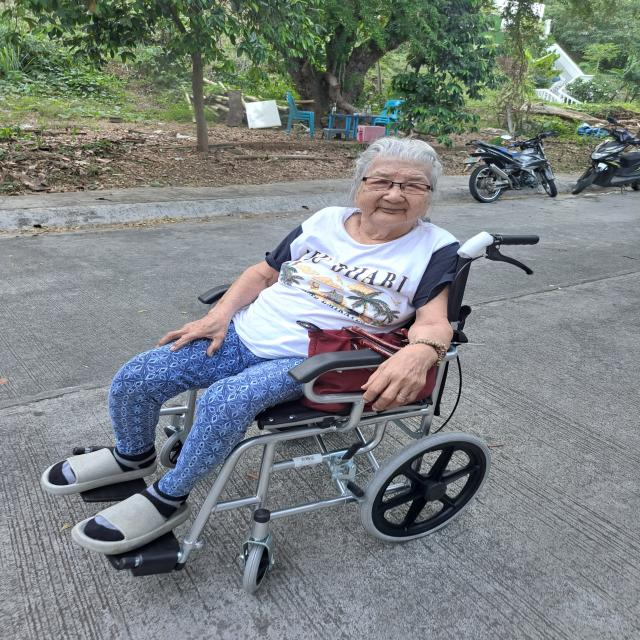wheelchairs: (48, 204, 554, 604)
